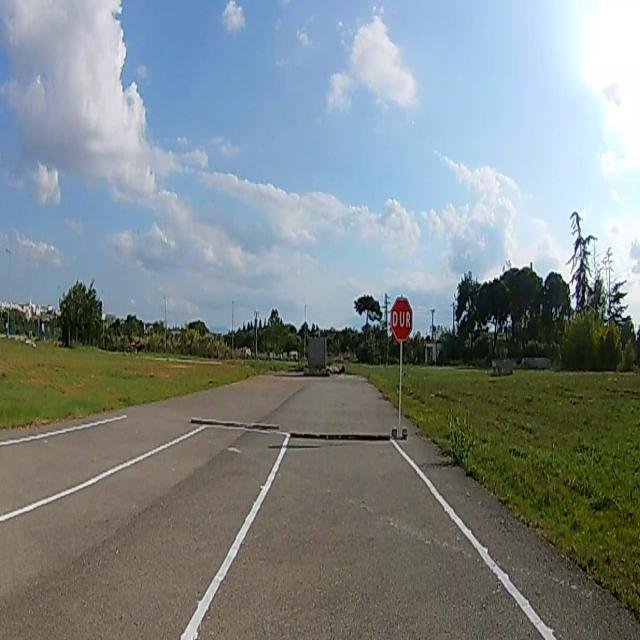dur: (392, 296, 412, 339)
